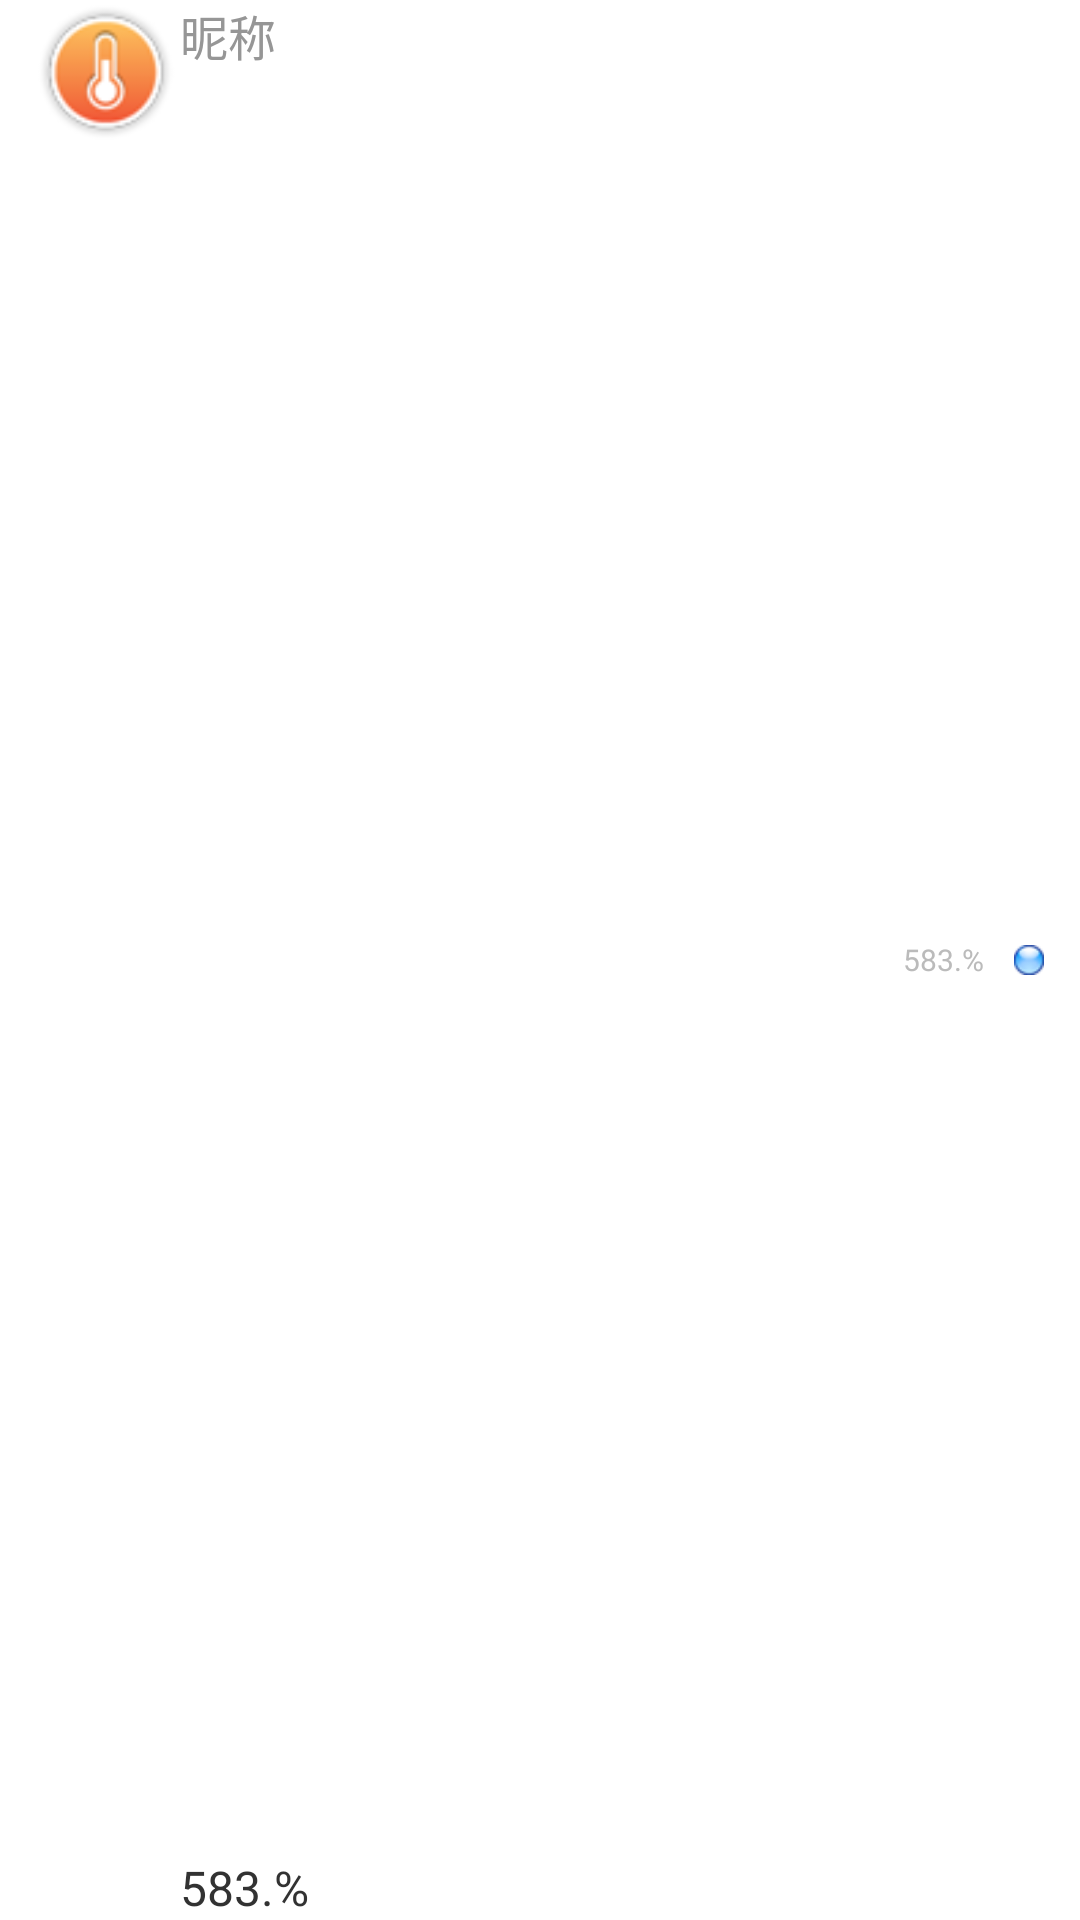

Named icons in this screenshot (1080*1920) and their centers, [x,y]:
online: [1029,960]
